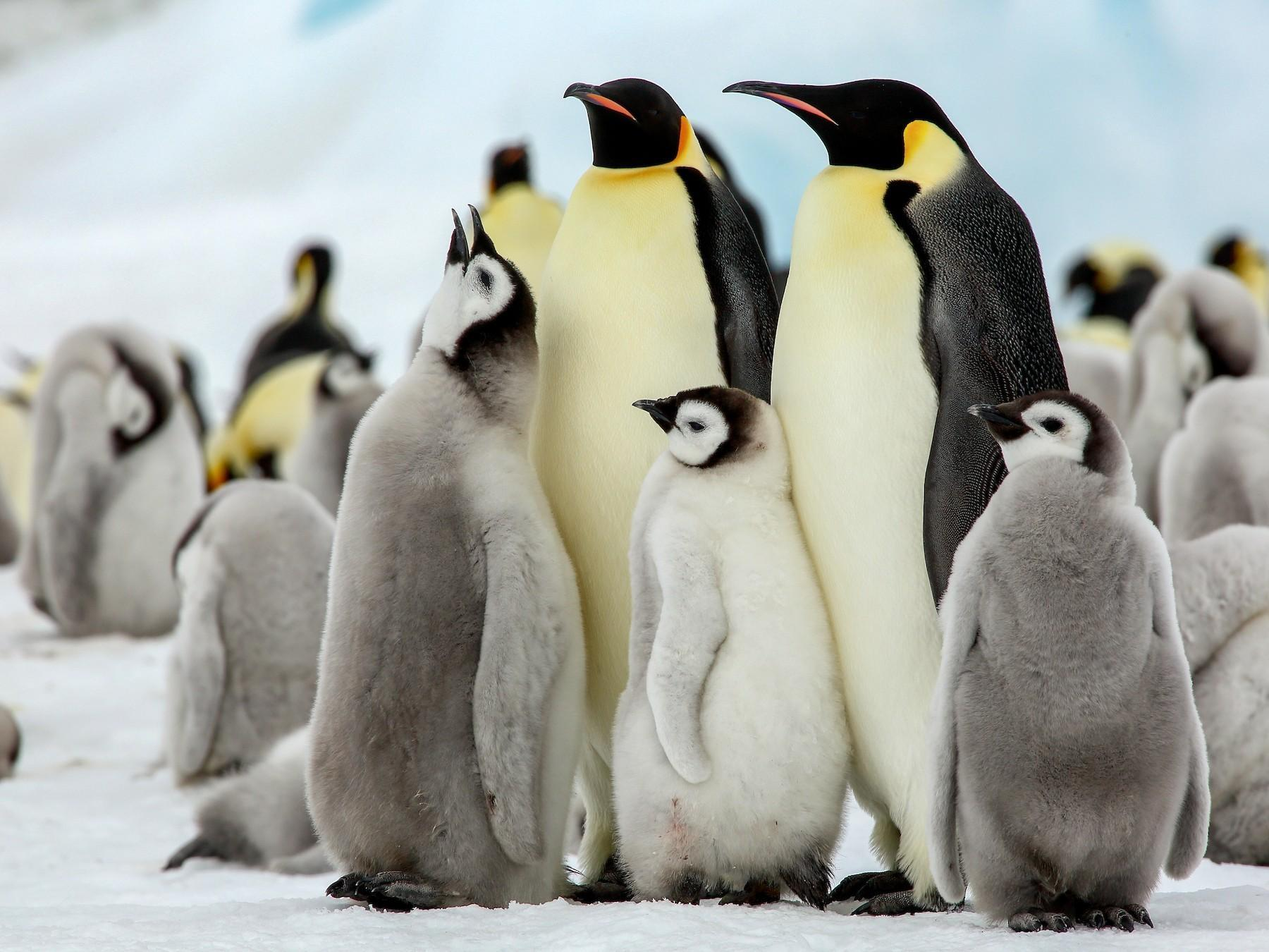Penguin: (719, 79, 1065, 905), (530, 77, 778, 903), (307, 202, 584, 910), (927, 391, 1209, 932), (615, 386, 850, 907), (20, 320, 202, 640), (166, 477, 333, 783), (1119, 263, 1264, 520), (202, 245, 346, 487), (1172, 521, 1268, 865), (159, 728, 314, 870), (1158, 377, 1268, 545), (279, 351, 381, 506), (482, 146, 560, 294), (0, 362, 44, 566), (1065, 243, 1164, 325), (1210, 238, 1268, 373), (1058, 320, 1122, 409)
